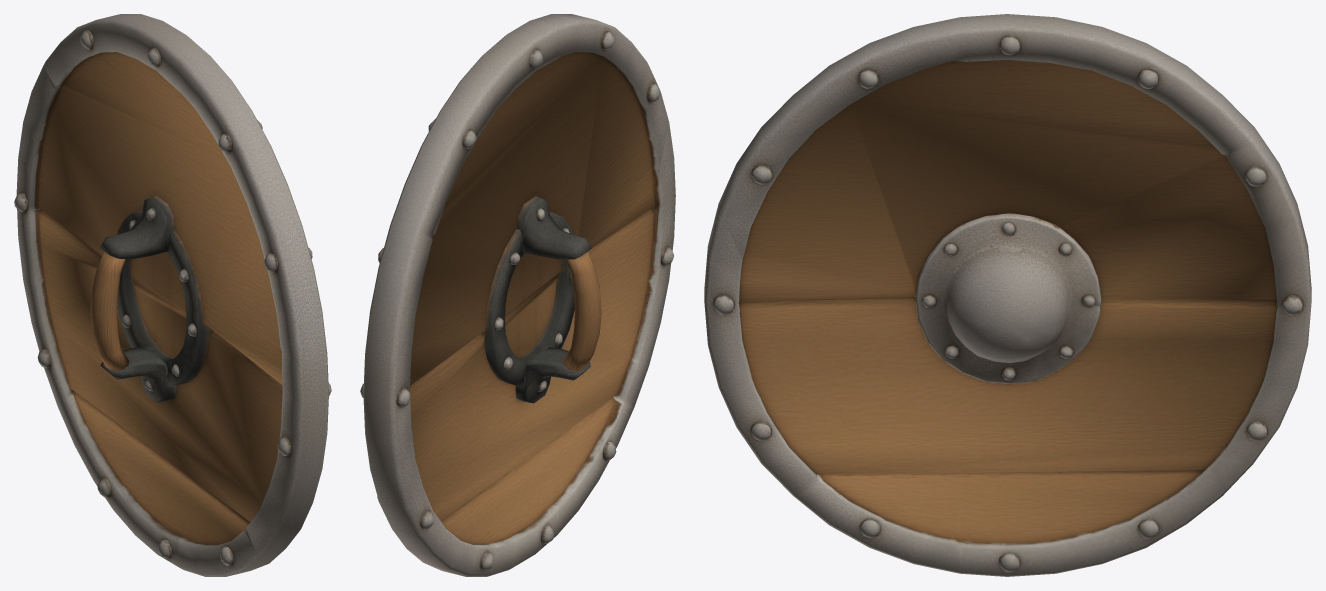
File: tripo_convert_79d29be6-5202-4337-a655-6ea6e6eb9454.fbx
3 views of the same model, side by side, from view 1: azimuth 30°, elevation 25°; view 2: azimuth 150°, elevation 25°; view 3: azimuth 270°, elevation 25° (orthographic). The views are drawn at different scales.
Visible parts, largest first — view 1: tripo_node_79d29be6; view 2: tripo_node_79d29be6; view 3: tripo_node_79d29be6.
Part boxes in pixels (box(x1,y1,x2,y2)): tripo_node_79d29be6: box(14, 14, 331, 576); tripo_node_79d29be6: box(360, 14, 675, 576); tripo_node_79d29be6: box(704, 14, 1311, 576).
Size of the model in its own units: 0.2832 by 0.998 by 0.998.
Materials: 1 (1 with a texture image).
